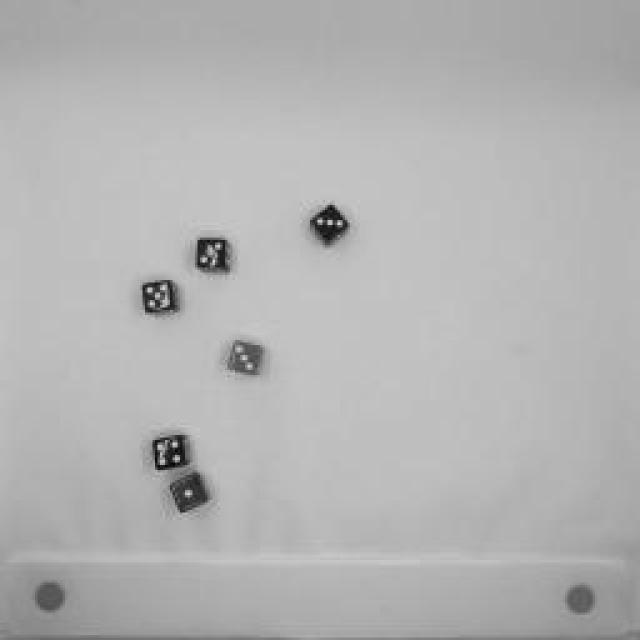dice_1: (166, 468, 214, 520)
dice_3: (302, 195, 358, 253), (191, 232, 244, 282), (219, 332, 271, 382)
dice_4: (149, 430, 196, 475)
dice_5: (134, 274, 186, 321)
